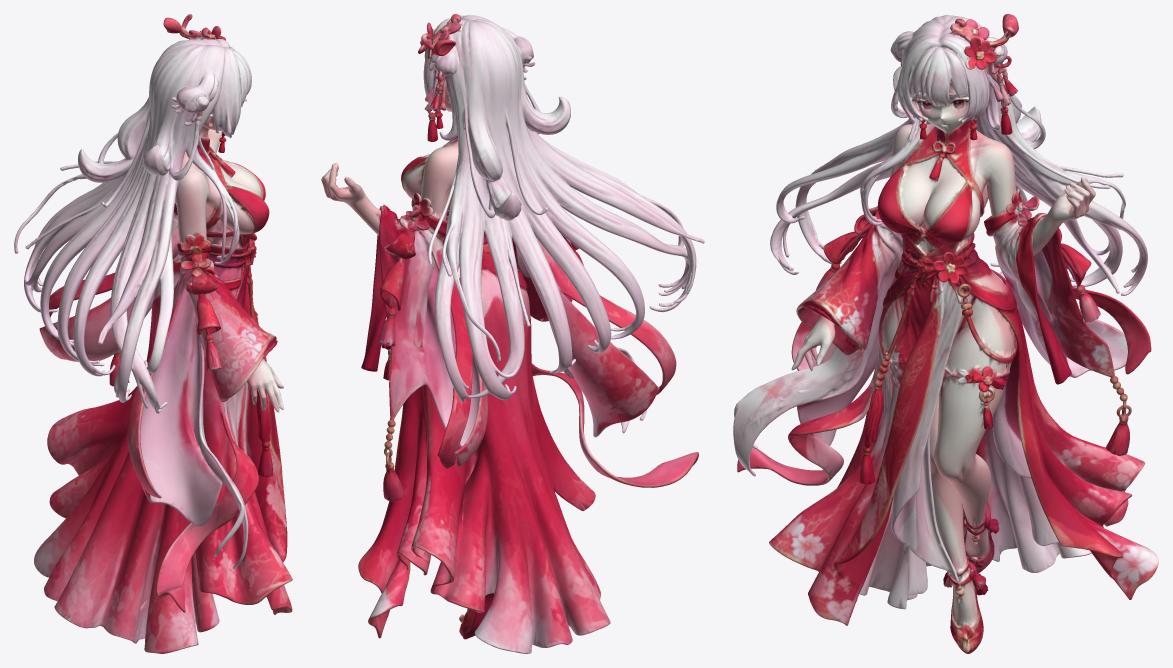
File: anime-girl.glb
3 renders of one model, left to right at view 1: azimuth 30°, elevation 25°; view 2: azimuth 150°, elevation 25°; view 3: azimuth 270°, elevation 25°, orthographic. The views are drawn at different scales.
Visible parts, largest first — view 1: tripo_node_ffd8263a-c33e-4529-bfb5-f3cec3d7c35b; view 2: tripo_node_ffd8263a-c33e-4529-bfb5-f3cec3d7c35b; view 3: tripo_node_ffd8263a-c33e-4529-bfb5-f3cec3d7c35b.
Boxes of the visible parts, box(x1,y1,x2,y2) form: tripo_node_ffd8263a-c33e-4529-bfb5-f3cec3d7c35b: box(14, 14, 292, 653); tripo_node_ffd8263a-c33e-4529-bfb5-f3cec3d7c35b: box(321, 14, 704, 653); tripo_node_ffd8263a-c33e-4529-bfb5-f3cec3d7c35b: box(733, 14, 1158, 653).
Bounding box in the file's own units: 1.6 × 3.65 × 2.19.
1 material, 1 textured.
